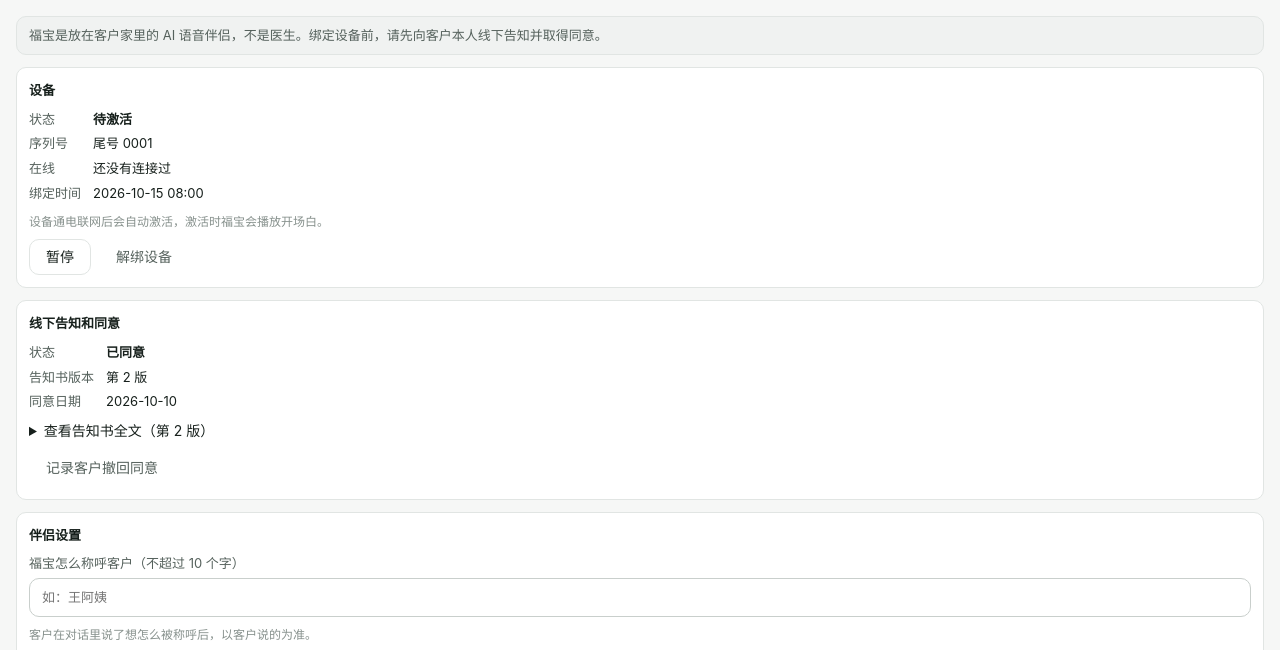
Test: 伴侣视图 › 暂停、解绑要再确认一次
Click the button "暂停" at [60, 257], box [29,239,91,275]
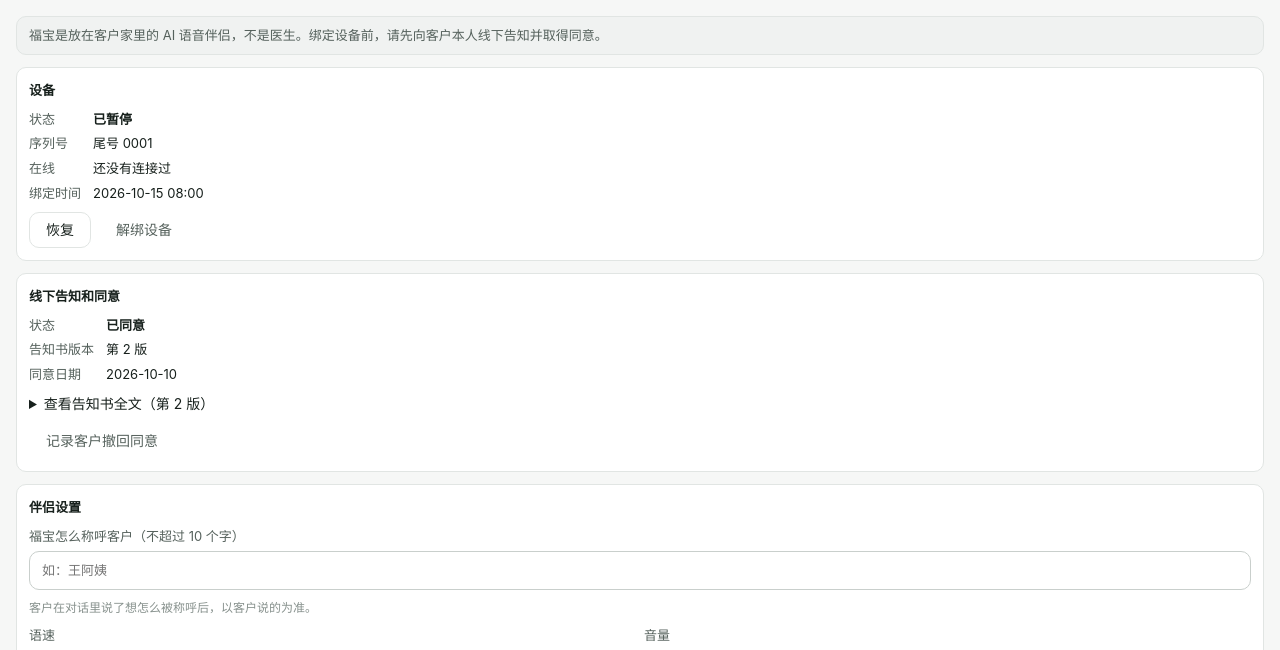
Expected: the button "恢复" is shown, [29,212,91,248]
Click the button "解绑设备" at [144, 230], box [99,212,189,248]
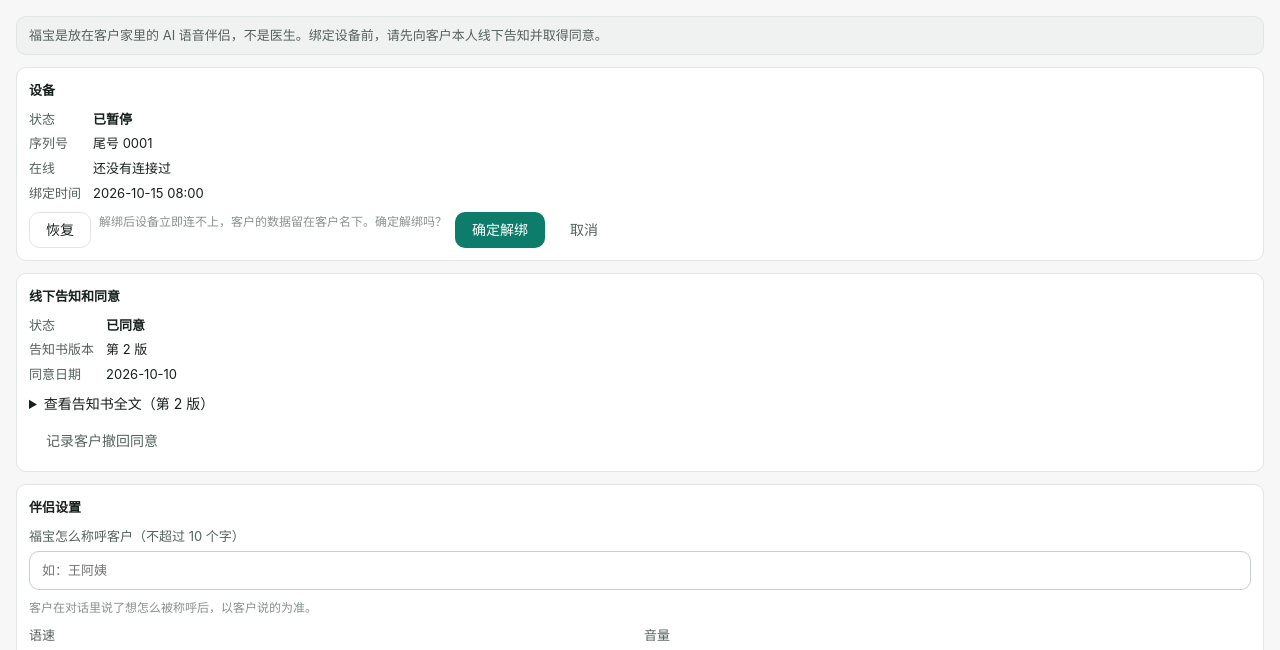
Click the button "确定解绑" at [500, 230], box [455,212,545,248]
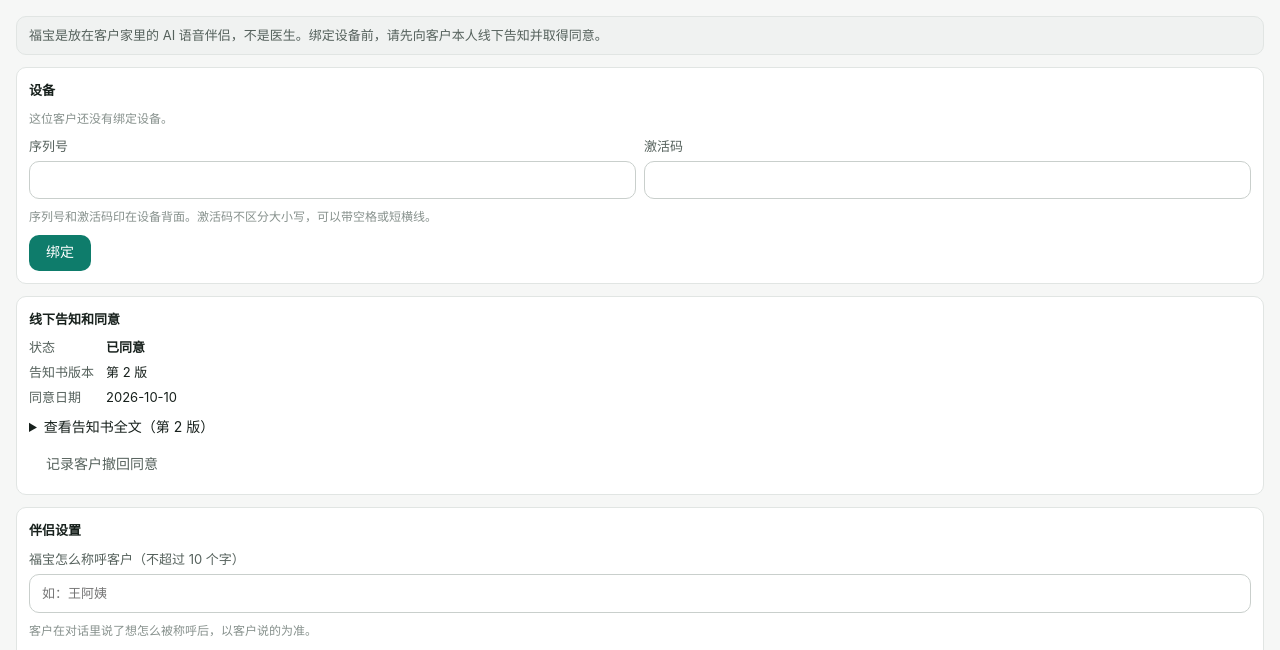
Expected: the text "这位客户还没有绑定设备。" is shown, [29,111,173,126]
